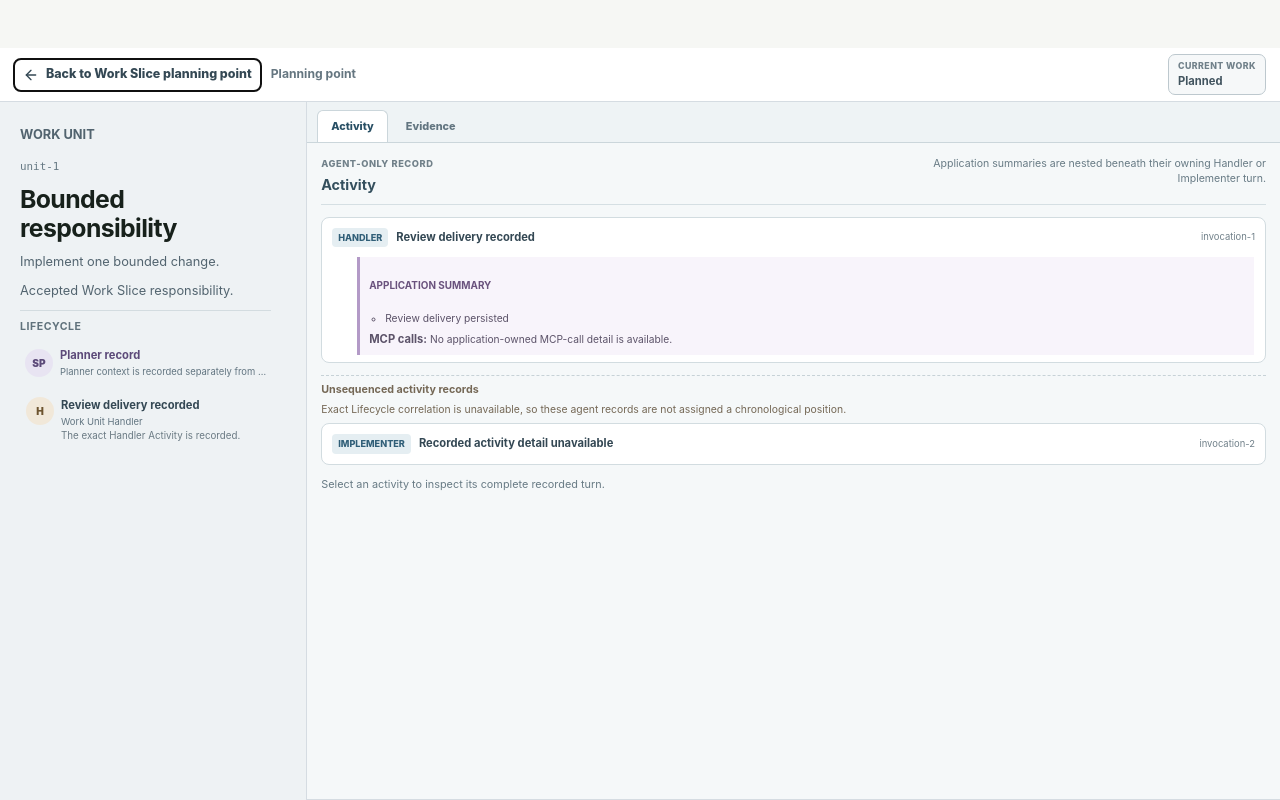
WorkUnitDetailWorkspace Activity and Evidence › highlights and selects an exact Activity from Lifecycle hover, focus, and click
Hover over the button that starts with "Review delivery recorded" at x=146, y=420, box [20,391,271,449]
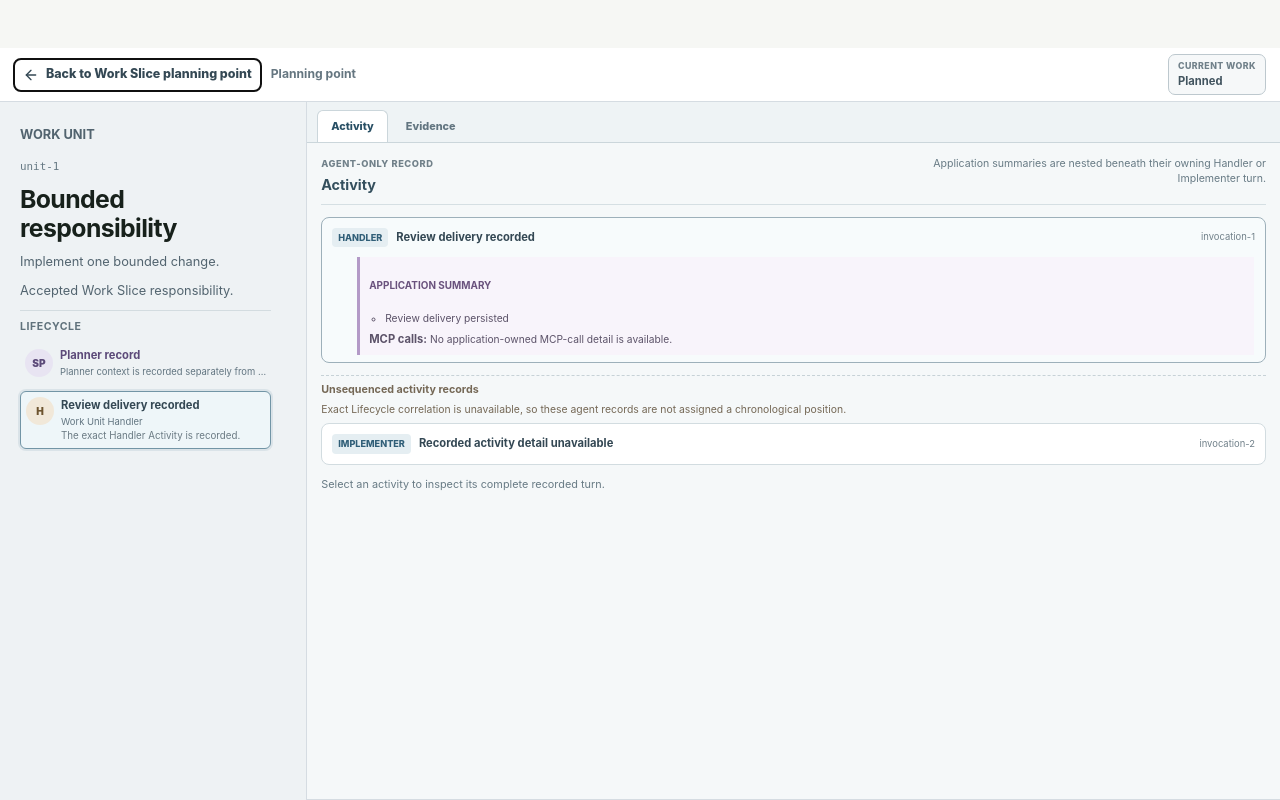
Move the pointer off the button that starts with "Review delivery recorded", box [20,391,271,449]
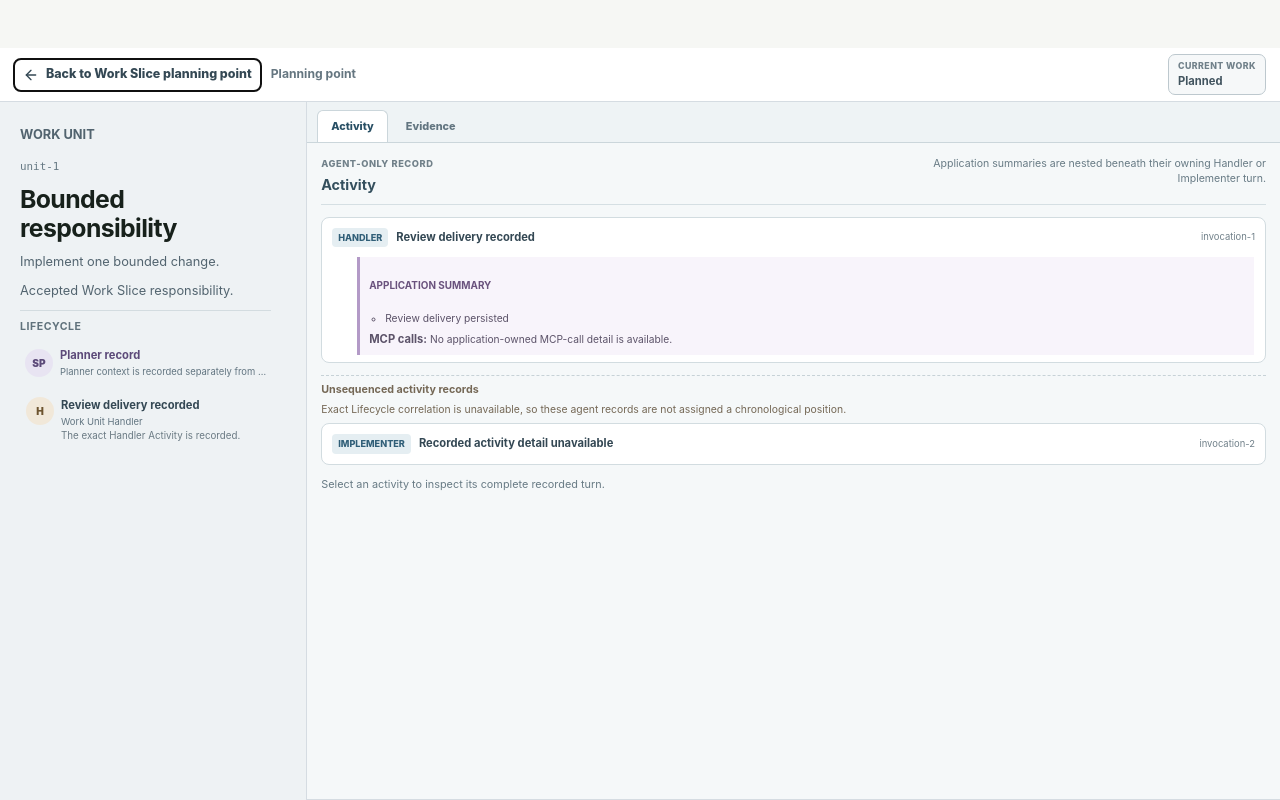
Focus the button that starts with "Review delivery recorded" at x=146, y=420, box [20,391,271,449]
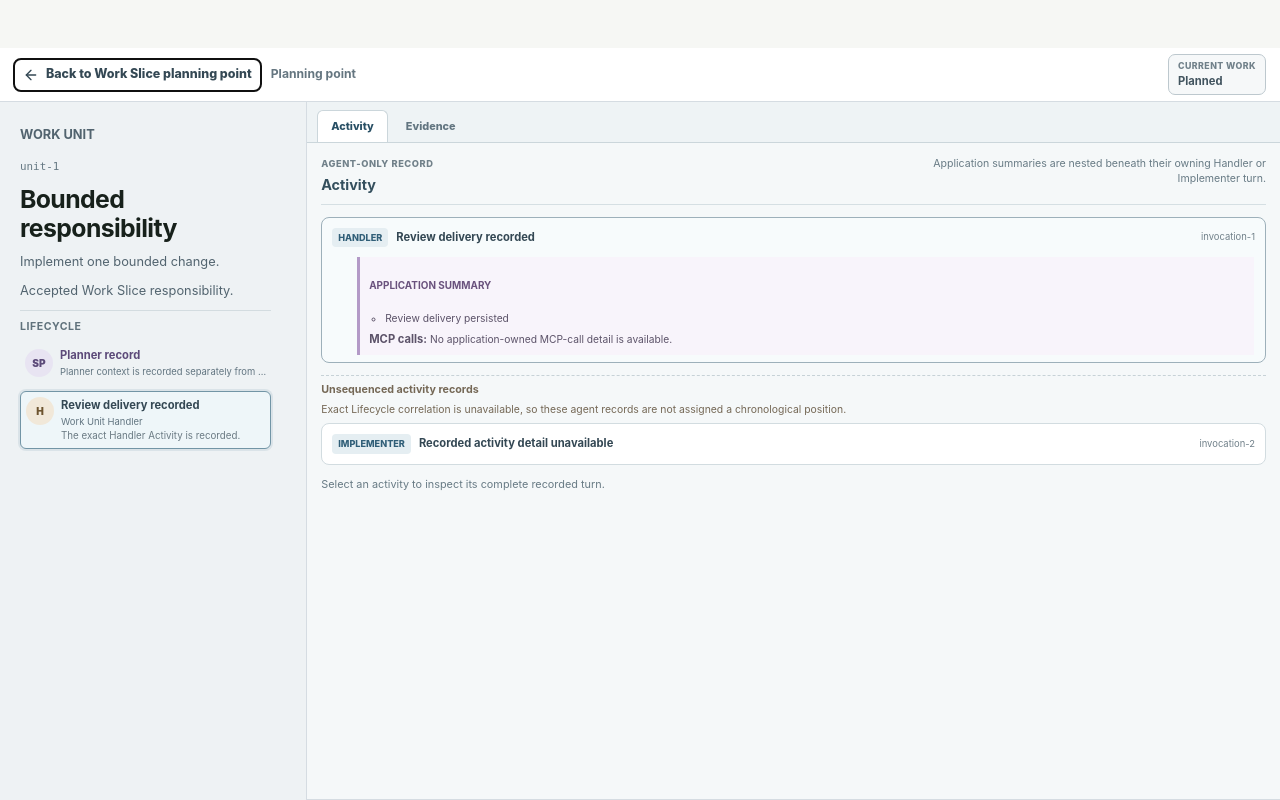
Click the button that starts with "Review delivery recorded" at x=146, y=420, box [20,391,271,449]
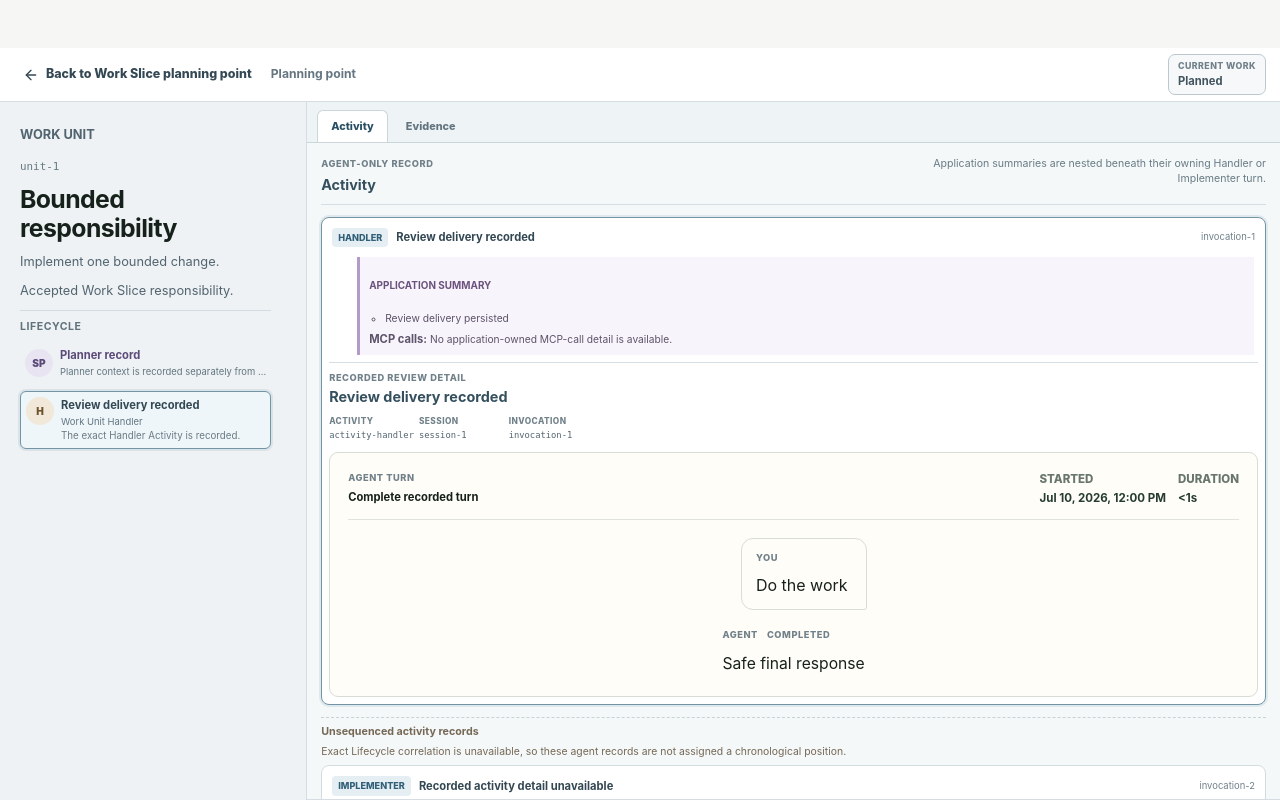
Result: the element named "Agent Session turn: invocation-1" is shown at [329,452,1258,697]
